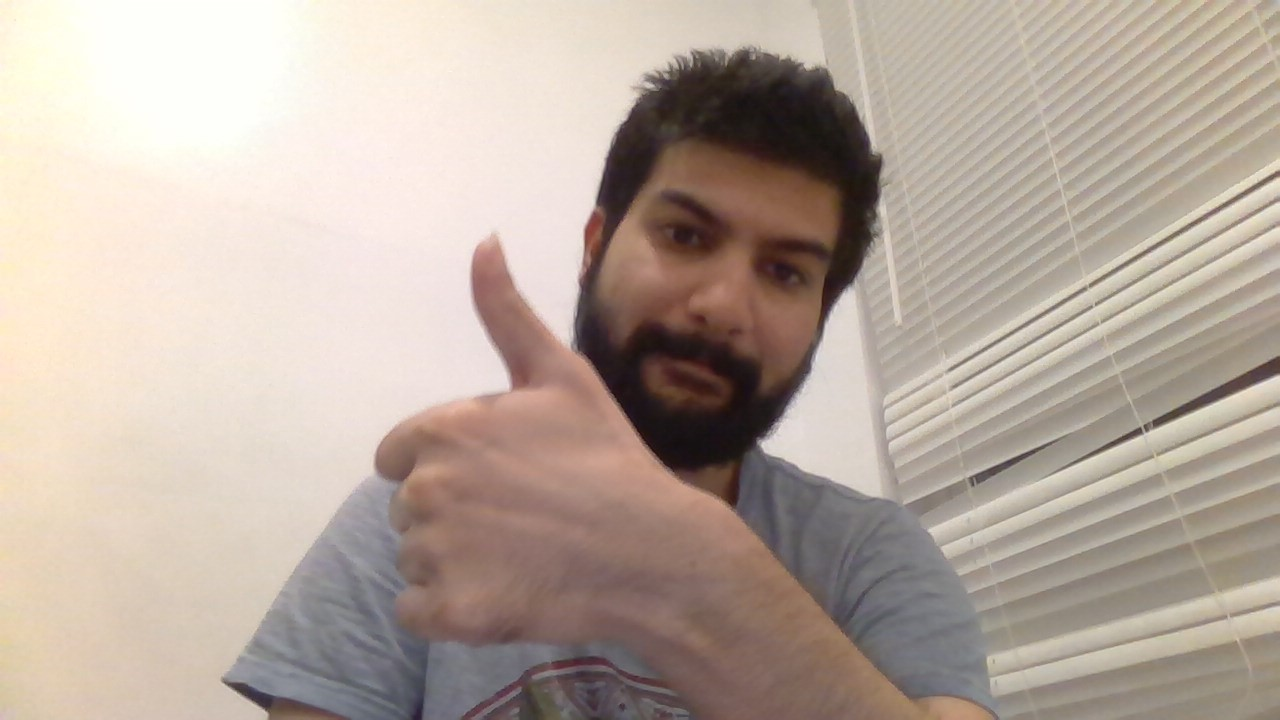up: (333, 219, 613, 651)
